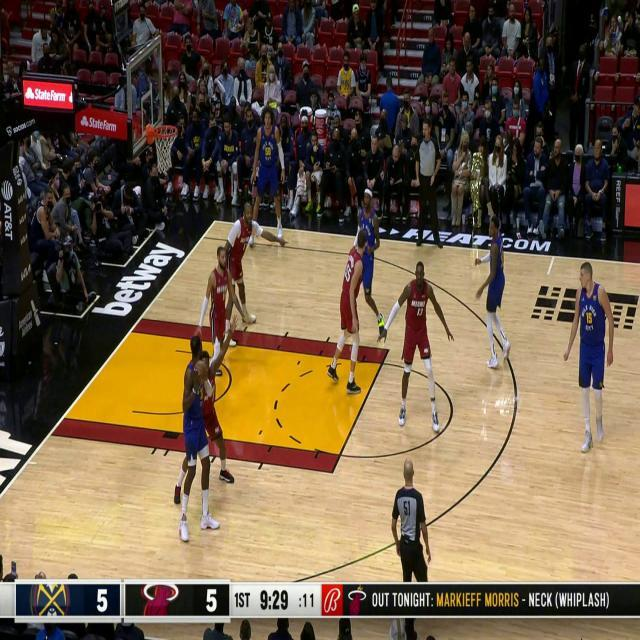rim: (194, 360, 208, 386)
